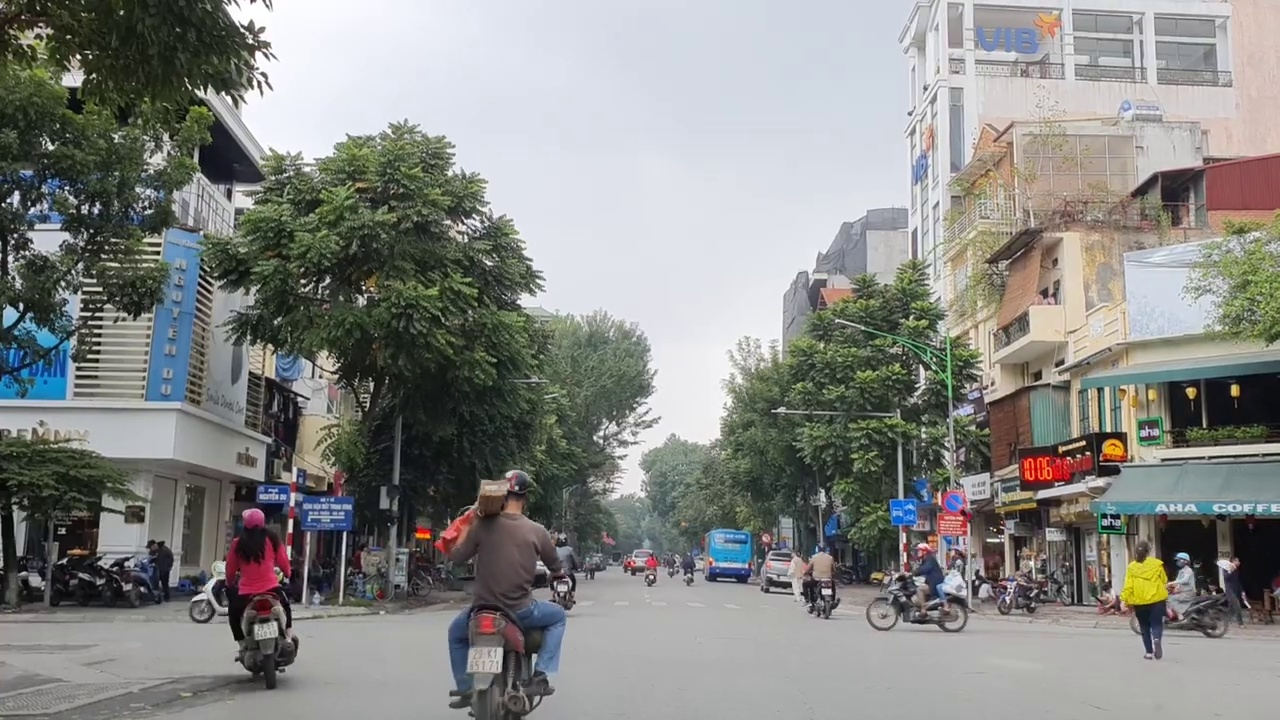person: (468, 646, 501, 671), (253, 622, 281, 640)
